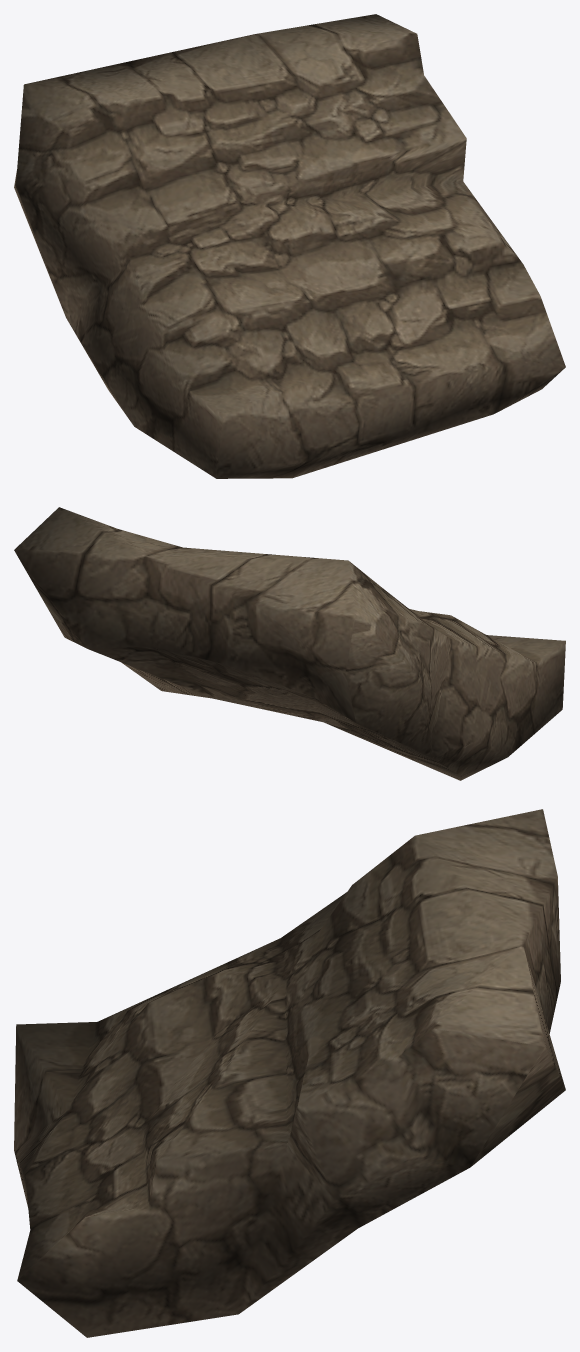
The model's file is shitou07.FBX.
3 renders of one model, top to bottom at view 1: azimuth 30°, elevation 25°; view 2: azimuth 150°, elevation 25°; view 3: azimuth 270°, elevation 25°, orthographic. The views are drawn at different scales.
Visible parts, largest first — view 1: polySurface77; view 2: polySurface77; view 3: polySurface77.
Boxes of the visible parts, bbox=[...] form: polySurface77: bbox=[14, 14, 565, 478]; polySurface77: bbox=[14, 507, 565, 780]; polySurface77: bbox=[14, 809, 565, 1337].
Bounding box in the file's own units: 49.7 × 33.95 × 48.21.
